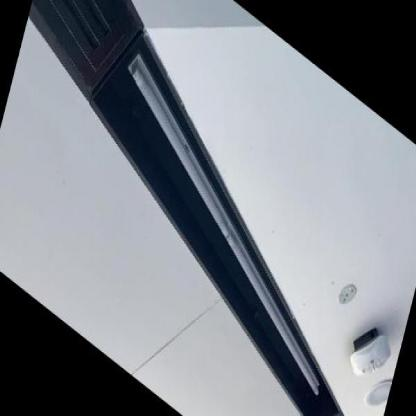light_off: (80, 39, 369, 415)
